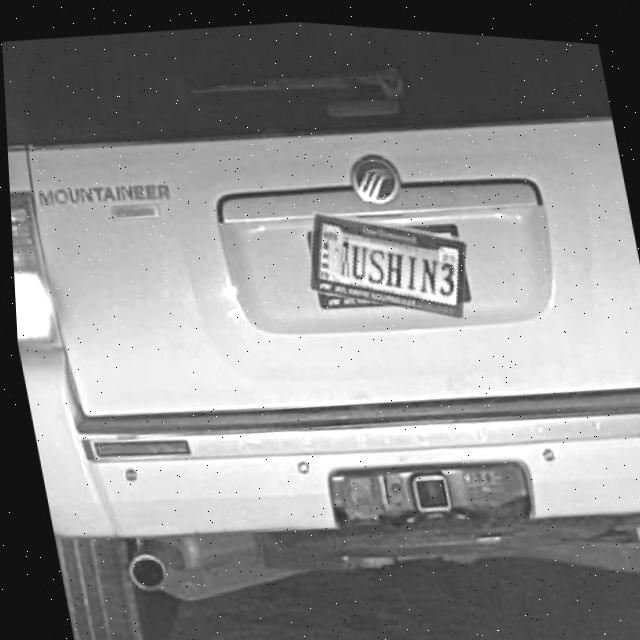LicensePlate: (306, 206, 466, 312)
